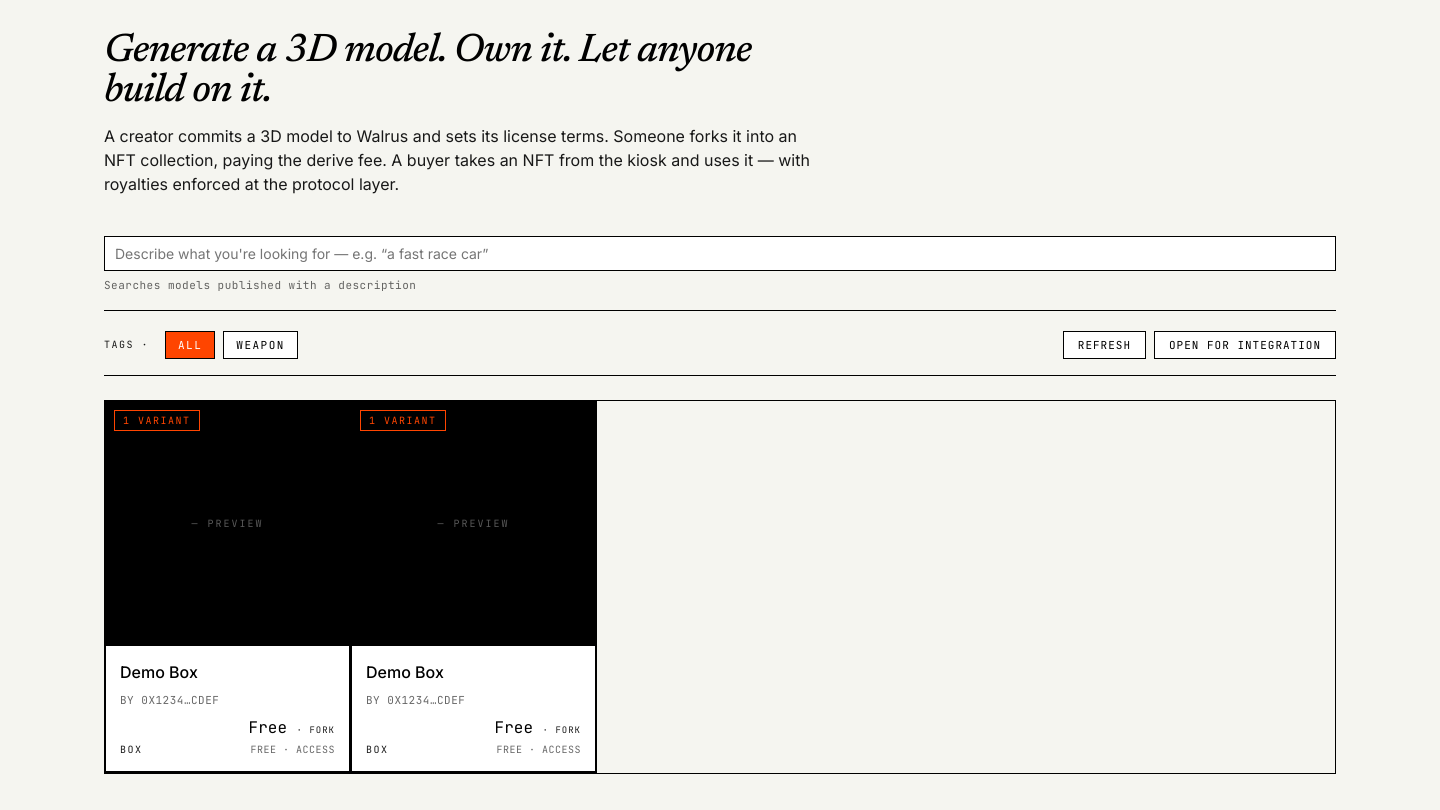
Test: BrowsePage › AE6 / R9: a zero-match query keeps the full grid in default order, no "no results" state
This screenshot has width=1440, height=810.
Type "nothing matches this" into the field with test id "browse-search-input" at (720,254), box 104,236 -> 1336,271
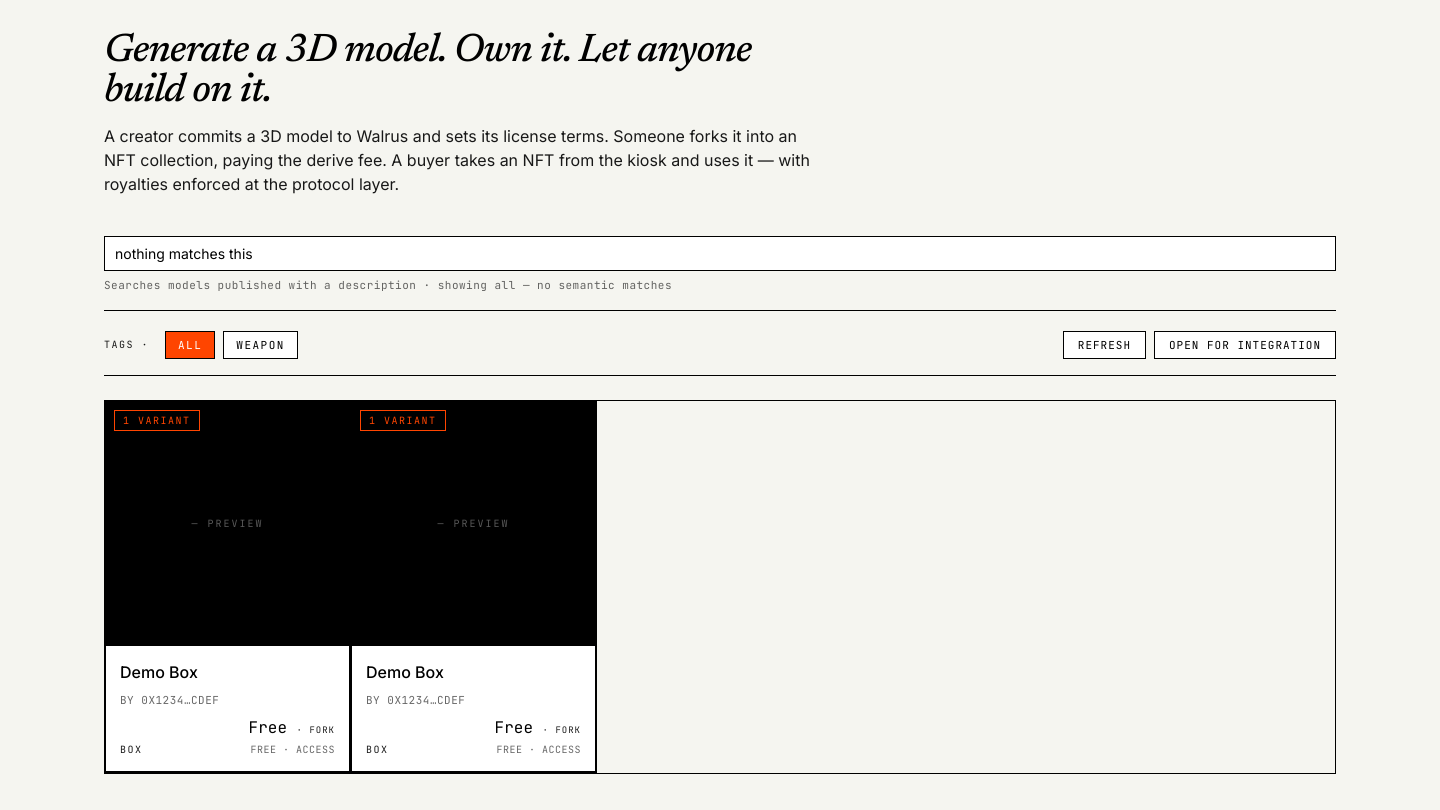
Now the text "· showing all — no semantic matches" is shown, box 416,278 -> 672,292
